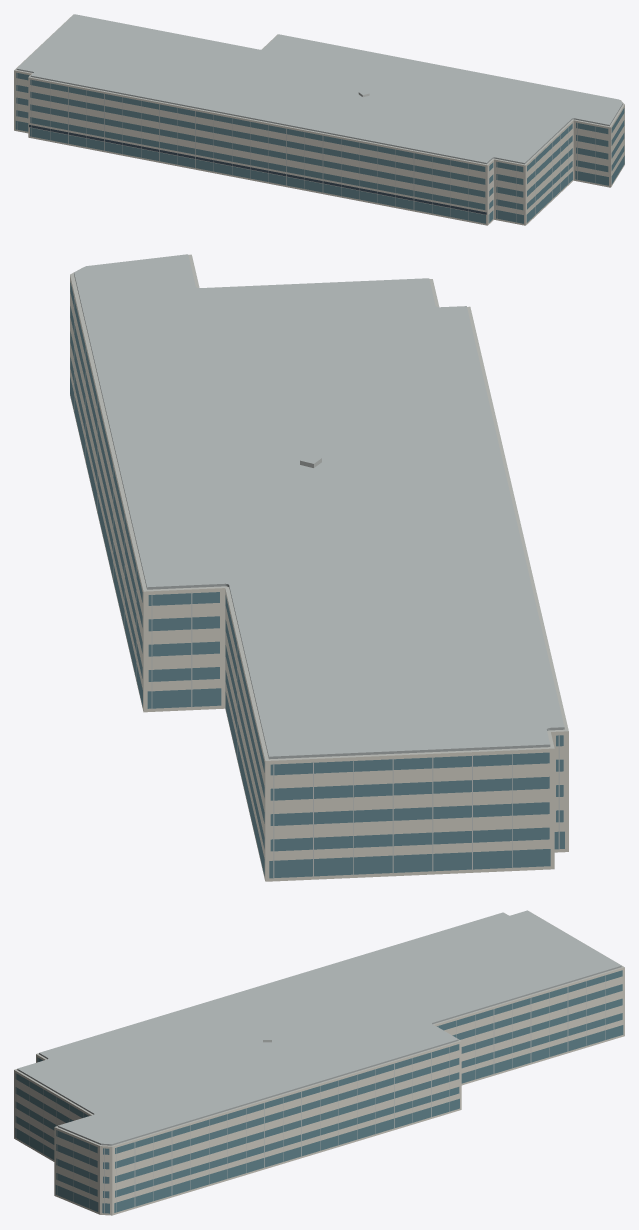
3 views of the same model, one above another, from view 1: azimuth 30°, elevation 25°; view 2: azimuth 150°, elevation 25°; view 3: azimuth 270°, elevation 25° (orthographic). The views are drawn at different scales.
Parts seen in each view (by area): view 1: ootoya-commercial-mall-hakata; view 2: ootoya-commercial-mall-hakata; view 3: ootoya-commercial-mall-hakata.
Boxes of the visible parts, x1=… form: ootoya-commercial-mall-hakata: x1=14, y1=14, x2=624, y2=225; ootoya-commercial-mall-hakata: x1=70, y1=254, x2=568, y2=881; ootoya-commercial-mall-hakata: x1=14, y1=910, x2=624, y2=1215.
Size of the model in its own units: 123 by 17.62 by 134.
